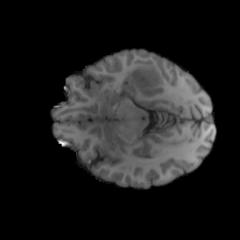glioma: (124, 64, 163, 93)
